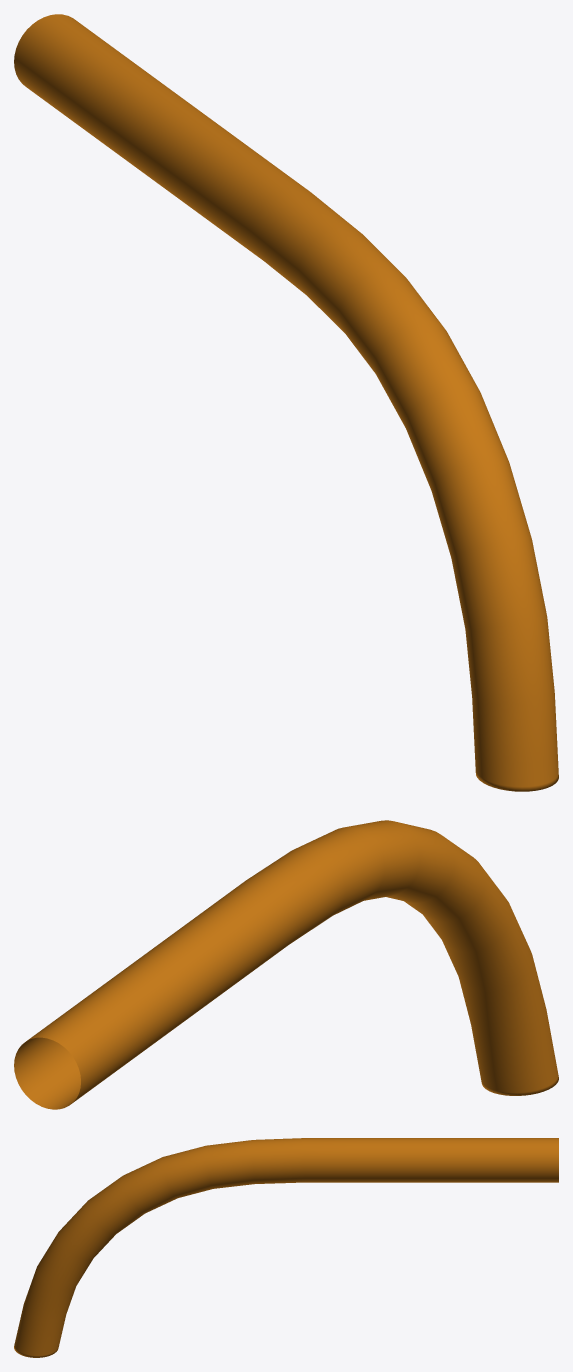
Rendered from Btube1.fbx.
3 renders of one model, top to bottom at view 1: azimuth 30°, elevation 25°; view 2: azimuth 150°, elevation 25°; view 3: azimuth 270°, elevation 25°, orthographic. The views are drawn at different scales.
Visible parts, largest first — view 1: Cylinder010; view 2: Cylinder010; view 3: Cylinder010.
Boxes of the visible parts, x1,y1,x2,y2 form: Cylinder010: (14, 14, 558, 791); Cylinder010: (14, 820, 558, 1109); Cylinder010: (14, 1138, 558, 1357).
Bounding box in the file's own units: 8.32 × 34.11 × 78.72.
